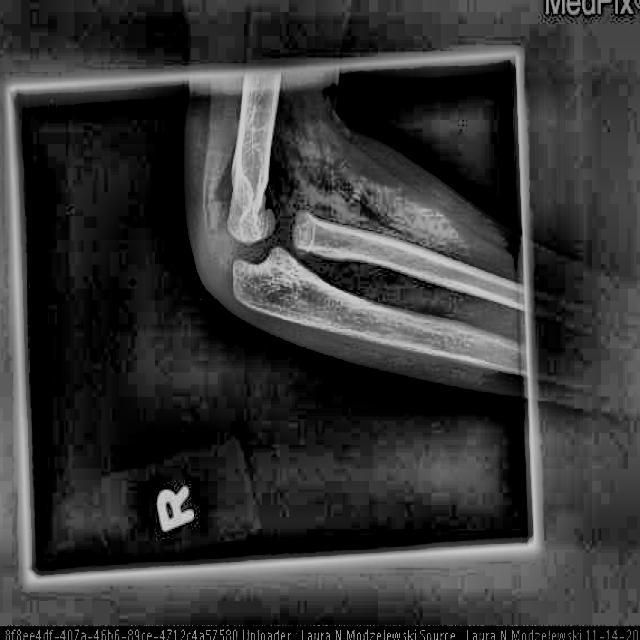fracture: (228, 86, 266, 178)
